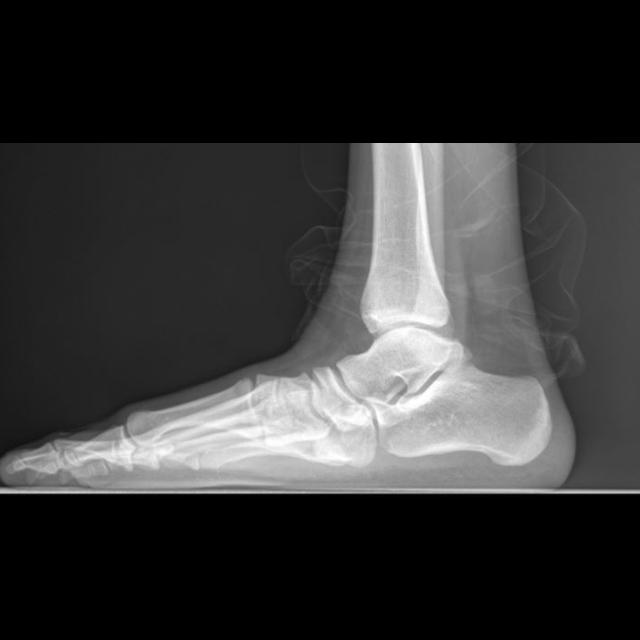a: (376, 358, 550, 464)
b: (308, 366, 367, 430)
c: (125, 380, 250, 441)
